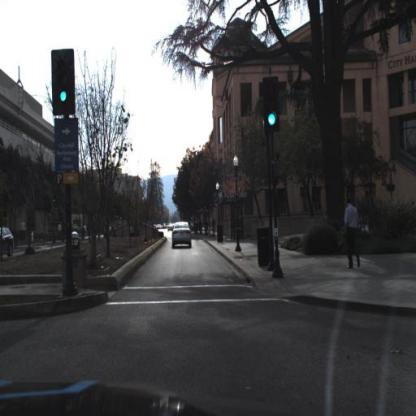car: (172, 221, 193, 250), (2, 227, 16, 260)
pedestrian: (343, 198, 362, 272)
trafficLight-Green: (263, 77, 281, 146), (55, 51, 74, 113)
